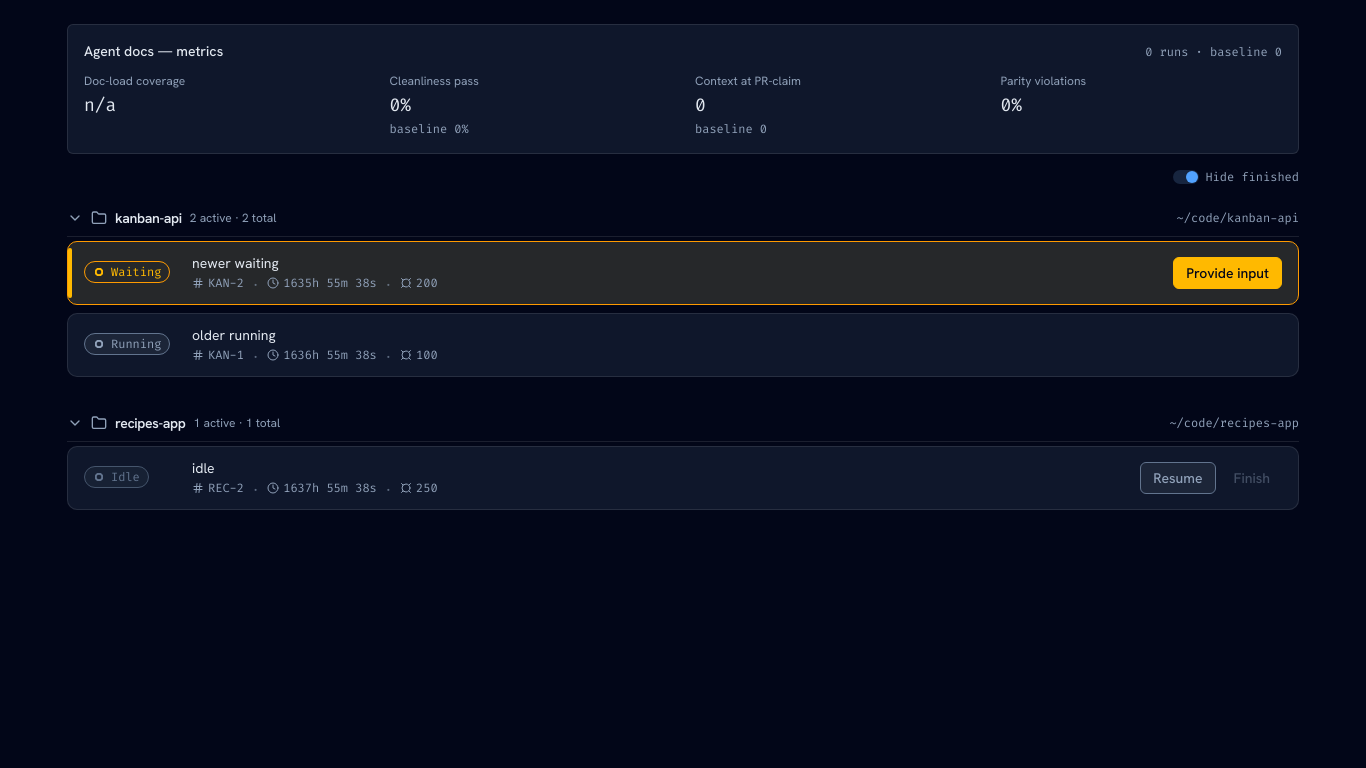
Scenario: AgentsList › Hide finished toggle › reveals finished agents when toggled off
The width and height of the screenshot is (1366, 768).
Click the switch named "hide finished" at (1186, 177), box [1173,170,1199,184]
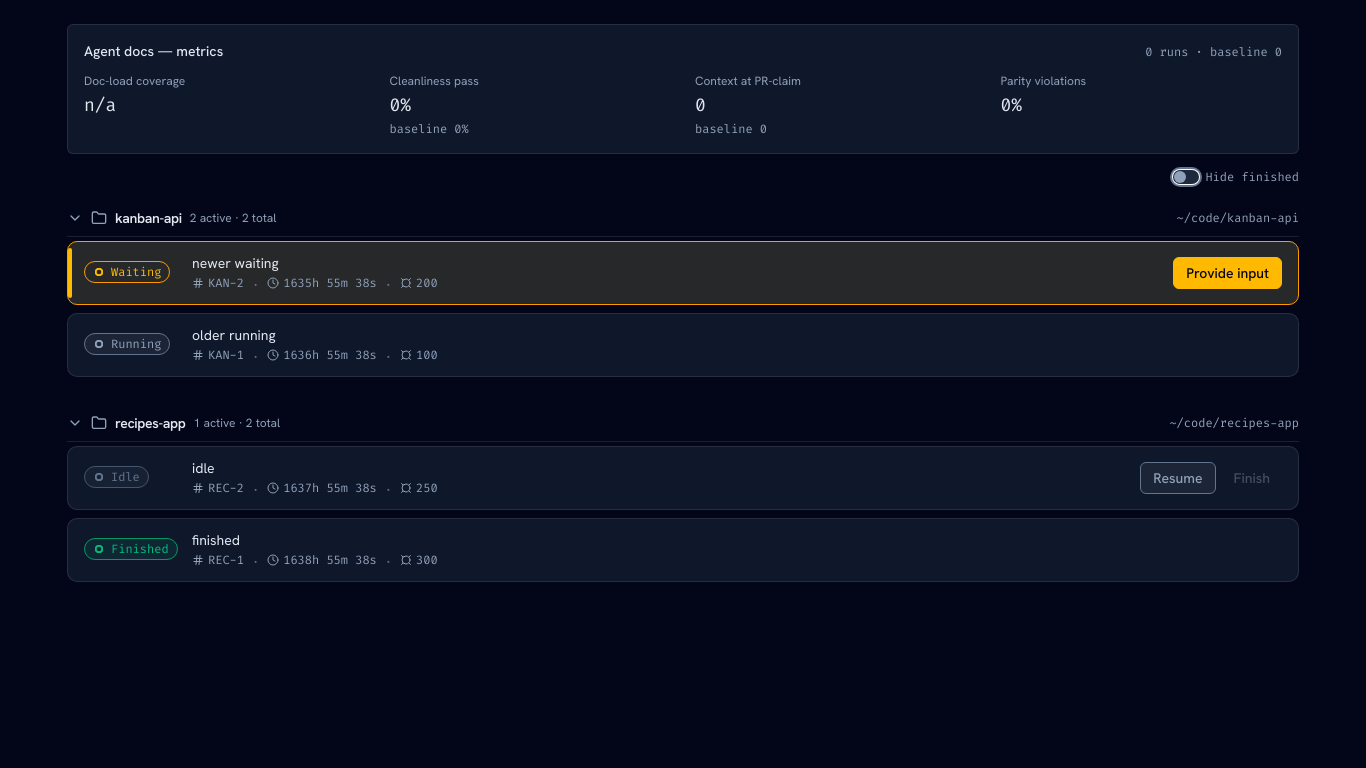
Now the button "Finished finished REC-1 1638h 55m 38s 300" is shown, box [67,518,1299,582]
